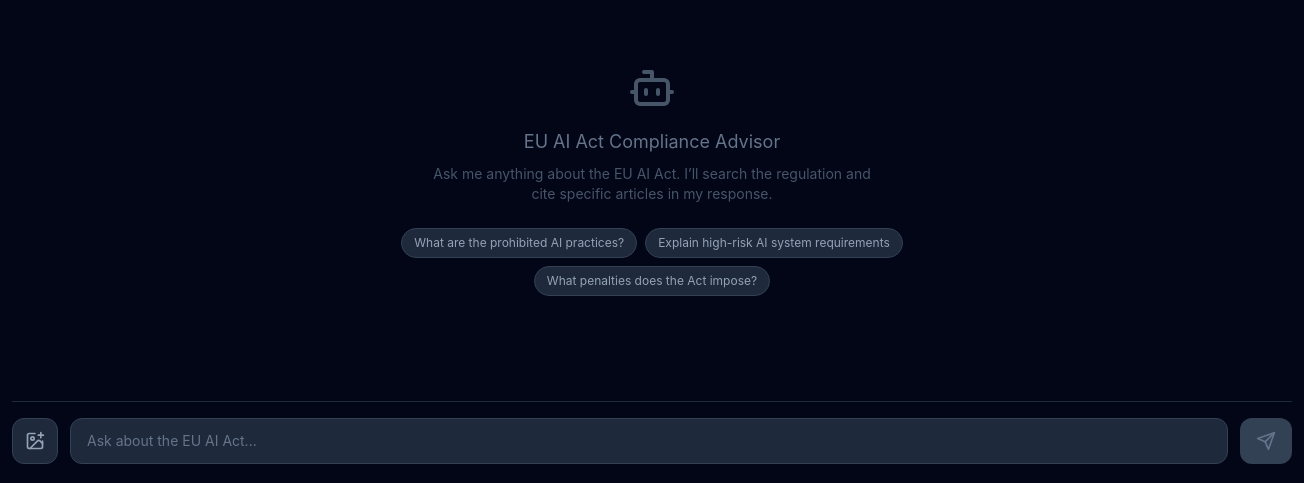
Test: AgentChat › follow-up suggestions › populates input when a follow-up pill is clicked
In the field with placeholder "Ask about the EU AI Act...": (649, 441) [70,418,1228,464], type "Test question"
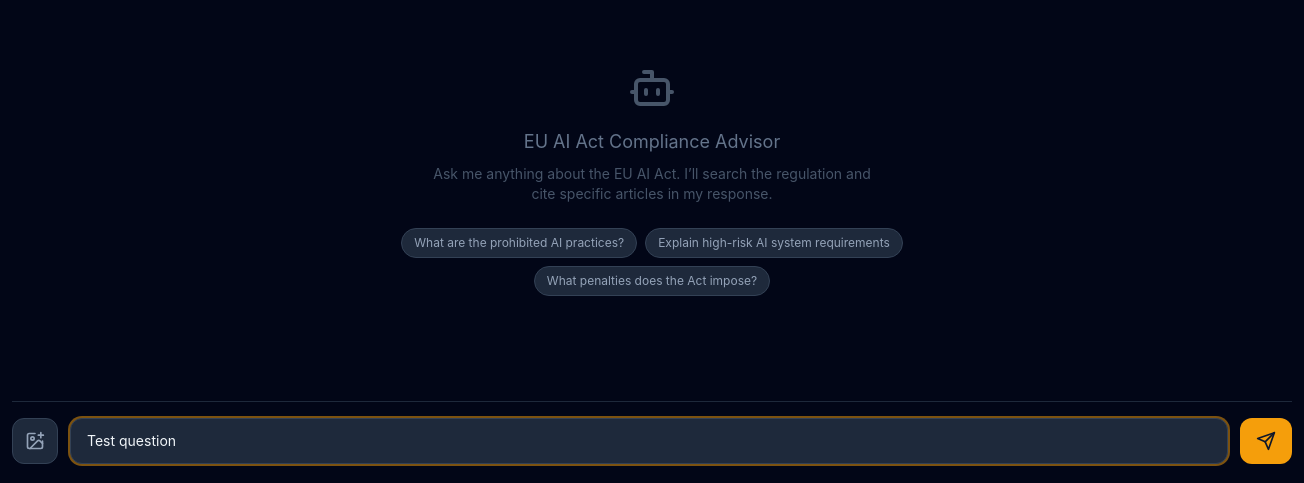
Click the 5th button: (1266, 441) [1240,418,1292,464]
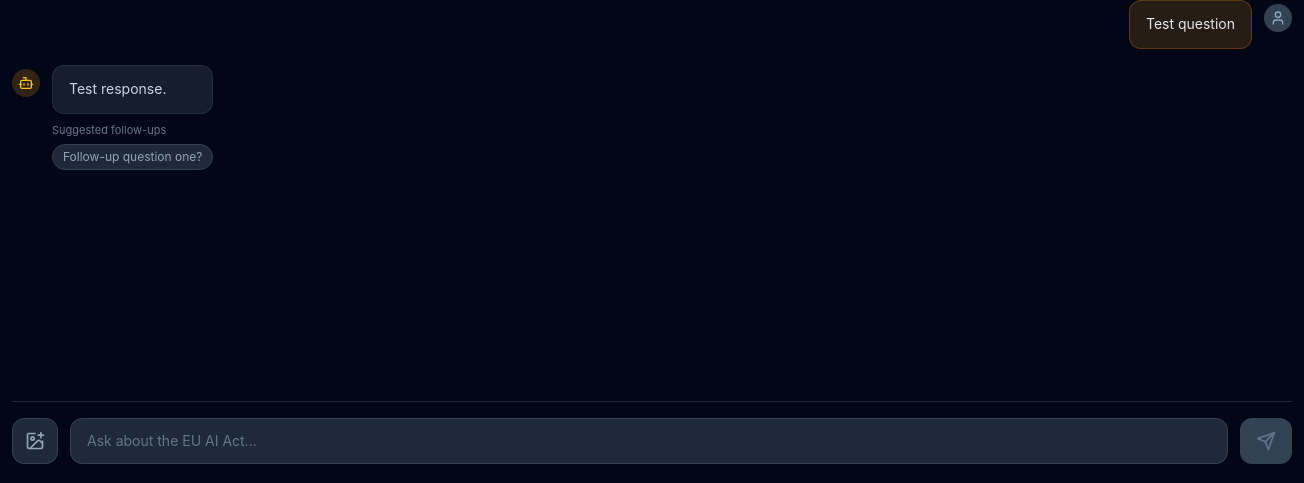
Click the button "Follow-up question one?": (133, 157) [52,144,213,170]
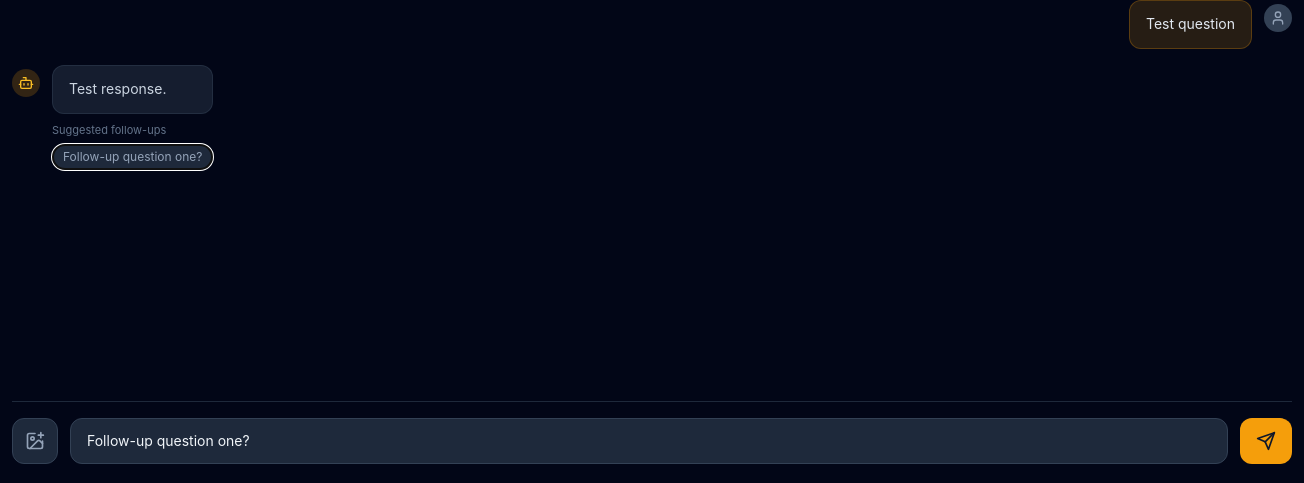
Expected: the field with placeholder "Ask about the EU AI Act..." holds "Follow-up question one?", [70,418,1228,464]
